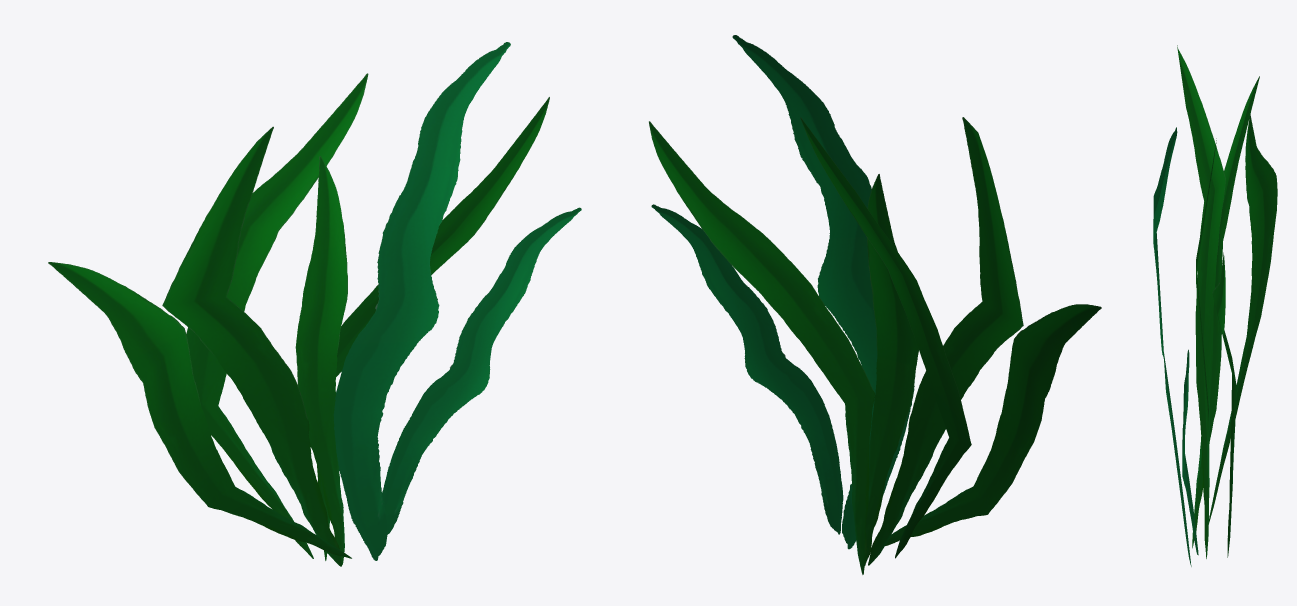
The model's file is haicao01.fbx.
3 renders of one model, left to right at view 1: azimuth 30°, elevation 25°; view 2: azimuth 150°, elevation 25°; view 3: azimuth 270°, elevation 25°, orthographic. The views are drawn at different scales.
Parts seen in each view (by area): view 1: haicao01; view 2: haicao01; view 3: haicao01.
Part boxes in pixels (bbox=[...]): haicao01: bbox=[48, 42, 581, 566]; haicao01: bbox=[649, 35, 1101, 574]; haicao01: bbox=[1153, 45, 1277, 566].
Bounding box in the file's own units: 12.05 × 12.05 × 2.48.
